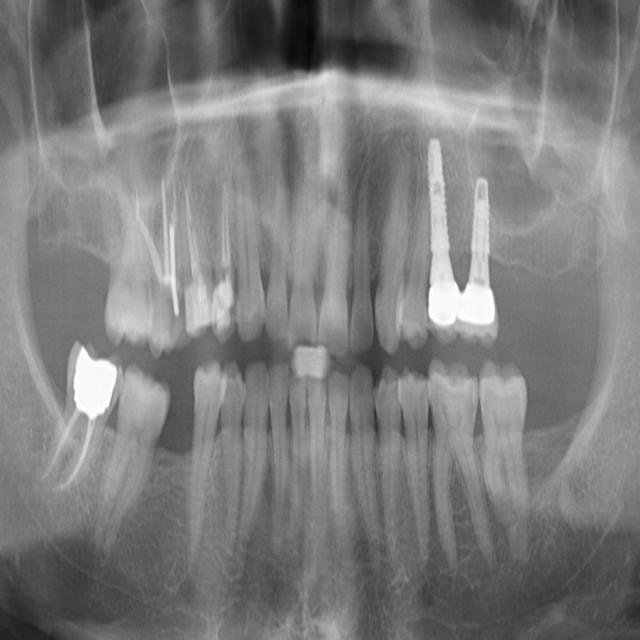infected-teeth: (29, 340, 123, 511), (134, 165, 188, 362), (175, 166, 216, 340), (212, 157, 237, 352)
